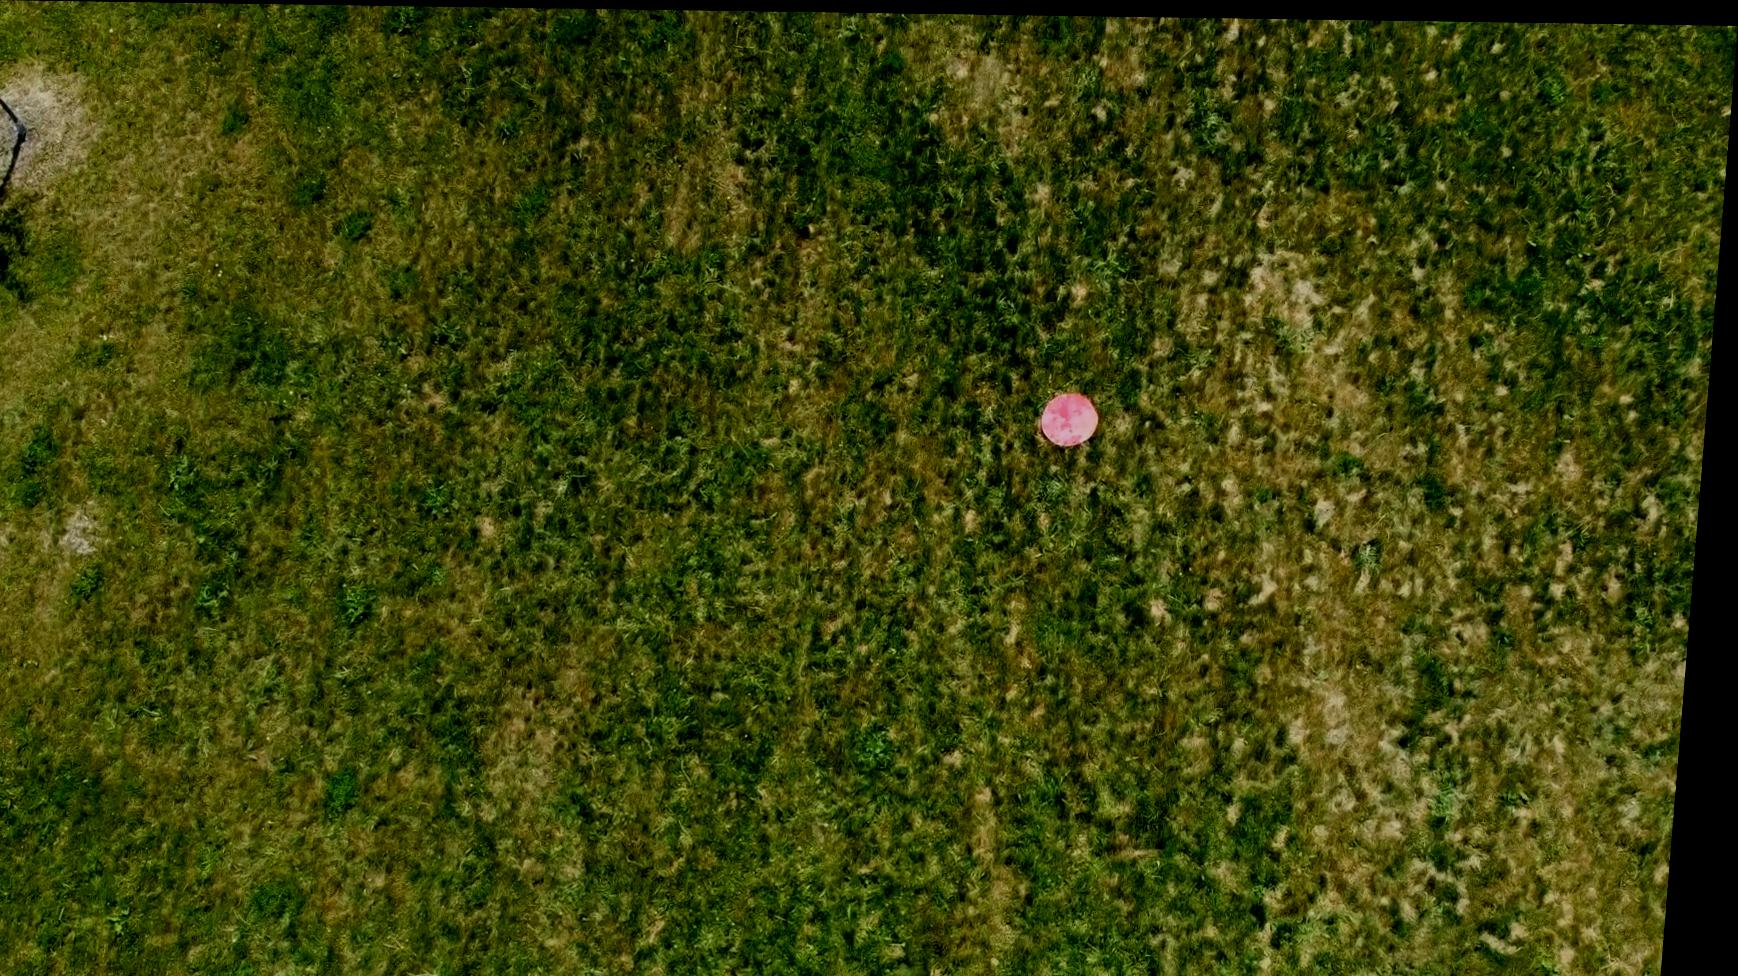Red: (1041, 388, 1109, 449)
